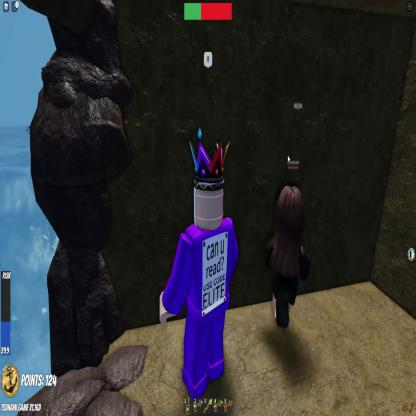Roblox-Avatar: (161, 126, 239, 400), (265, 186, 311, 331)
